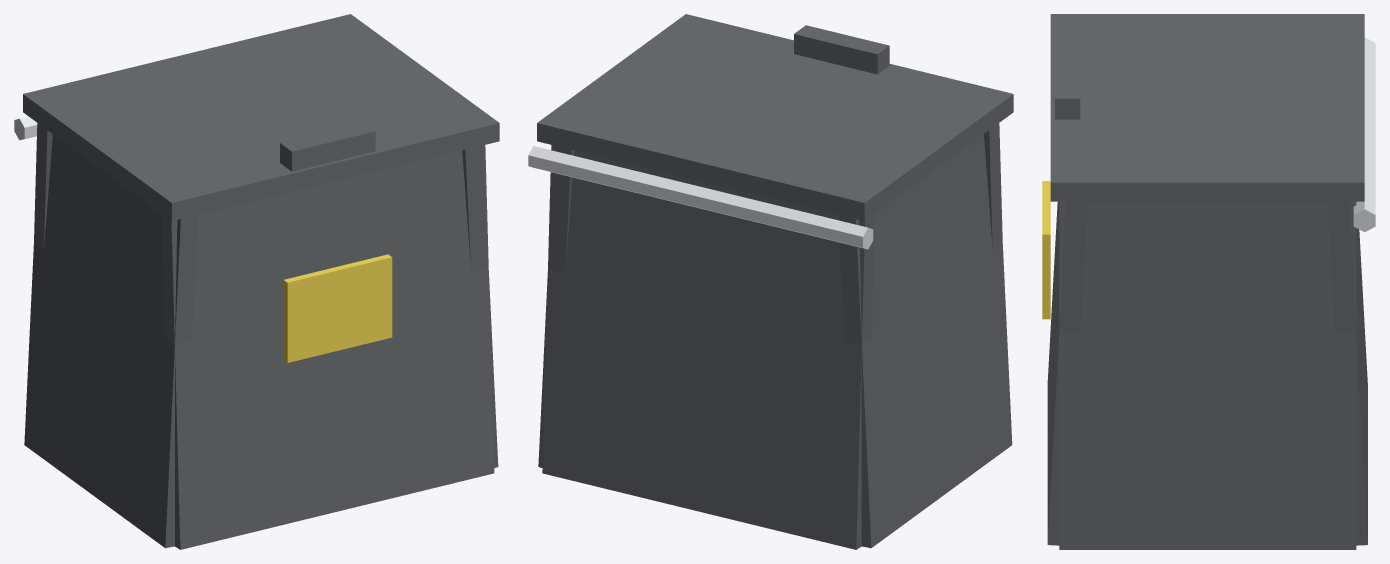
The model's file is fish-market-and-trawler-quay-fish-market-and-trawler-q-28b7f9ab__37303.glb.
3 views of the same model, side by side, from view 1: azimuth 30°, elevation 25°; view 2: azimuth 150°, elevation 25°; view 3: azimuth 270°, elevation 25° (orthographic). The views are drawn at different scales.
Visible parts, largest first — view 1: fish-market-and-trawler-quay-offal-bin, bin-lid/charcoal (×2); view 2: fish-market-and-trawler-quay-offal-bin, bin-lid/charcoal (×2); view 3: fish-market-and-trawler-quay-offal-bin, bin-lid/charcoal (×2).
Part boxes in pixels (x1=…): fish-market-and-trawler-quay-offal-bin: x1=14, y1=116, x2=498, y2=549; bin-lid/charcoal (×2): x1=23, y1=14, x2=499, y2=221; fish-market-and-trawler-quay-offal-bin: x1=528, y1=123, x2=1012, y2=549; bin-lid/charcoal (×2): x1=537, y1=14, x2=1013, y2=221; fish-market-and-trawler-quay-offal-bin: x1=1042, y1=37, x2=1375, y2=549; bin-lid/charcoal (×2): x1=1050, y1=14, x2=1364, y2=201.
Bounding box in the file's own units: 0.96 × 1.01 × 0.786.
